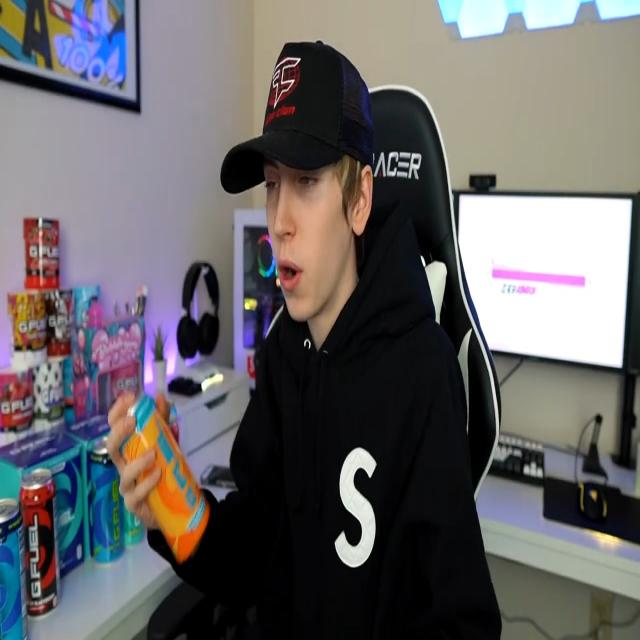can: (118, 394, 210, 566), (19, 468, 62, 618)
